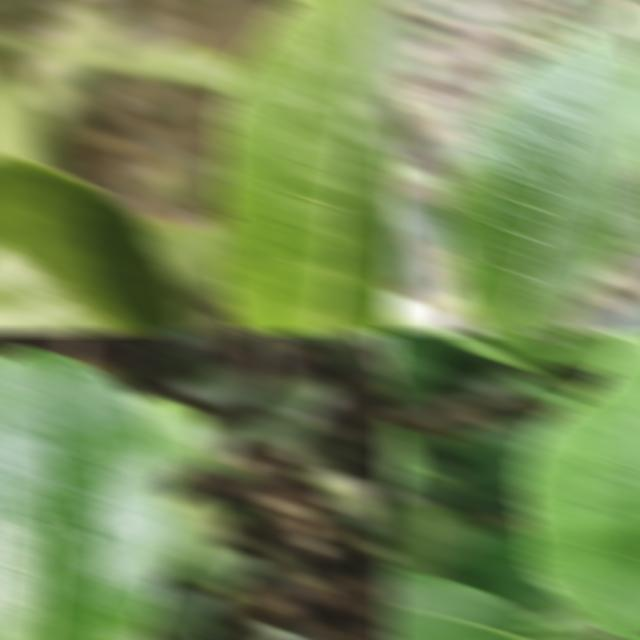Leaf: (442, 6, 640, 334), (212, 0, 396, 334), (0, 346, 174, 640), (517, 330, 640, 640), (0, 154, 187, 334), (24, 0, 120, 128), (384, 566, 535, 640), (450, 521, 559, 608), (384, 499, 487, 581), (139, 213, 230, 304), (93, 39, 242, 94), (449, 416, 551, 492), (126, 394, 210, 484), (0, 58, 59, 165), (384, 330, 450, 404), (166, 489, 228, 559), (143, 590, 225, 640), (178, 548, 260, 591), (384, 25, 420, 88), (162, 330, 217, 351)
